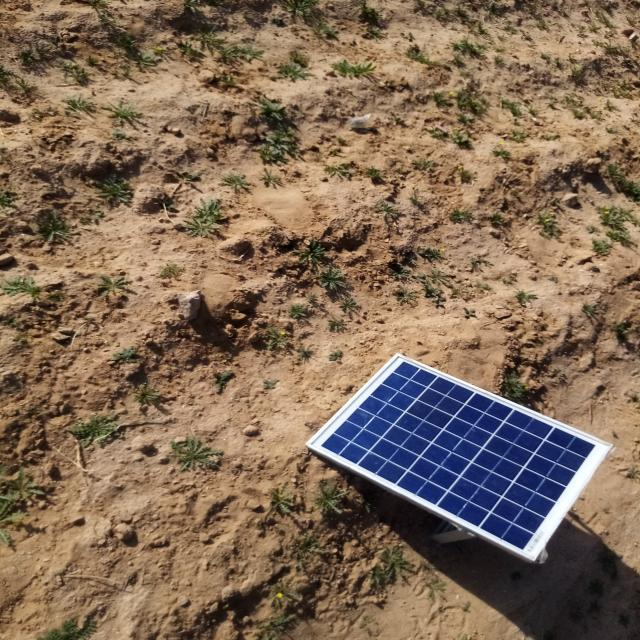no faulty: (308, 355, 611, 558)
